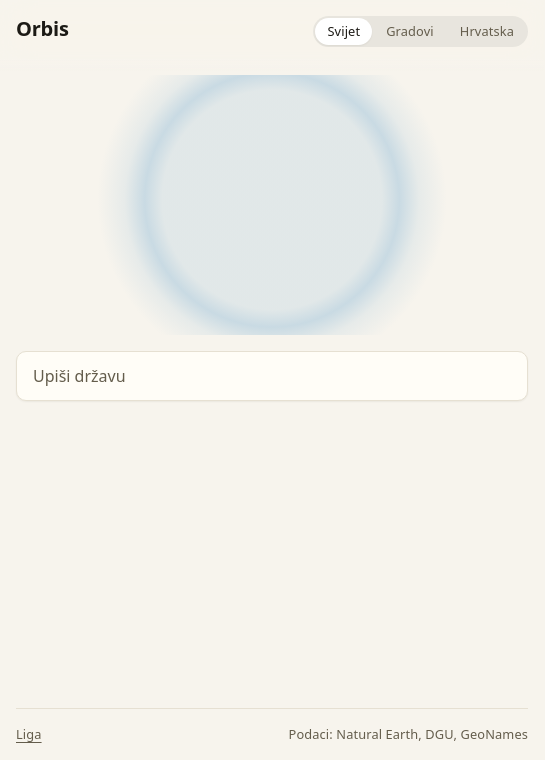
Scenario: App › poruka kaze je li pokusaj blizi od prethodnog
The width and height of the screenshot is (545, 760).
// Meta je Beta. Gama je od nje 400 km, Alfa 100 km, Delta 500 km.
Type "Gama" into the dropdown labelled "Upiši državu" at (272, 376), box [16, 351, 528, 401]
Then press Enter
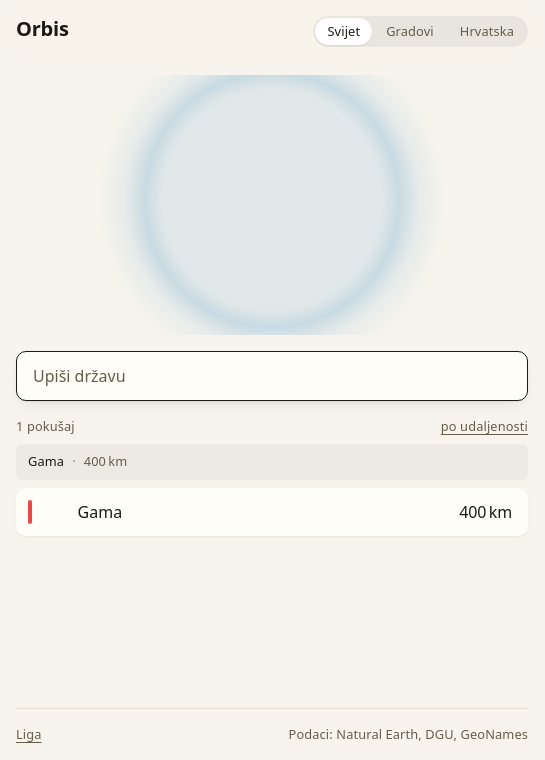
Expected: the message does not show "bliže"
Type "Alfa" into the dropdown labelled "Upiši državu" at (272, 376), box [16, 351, 528, 401]
Then press Enter
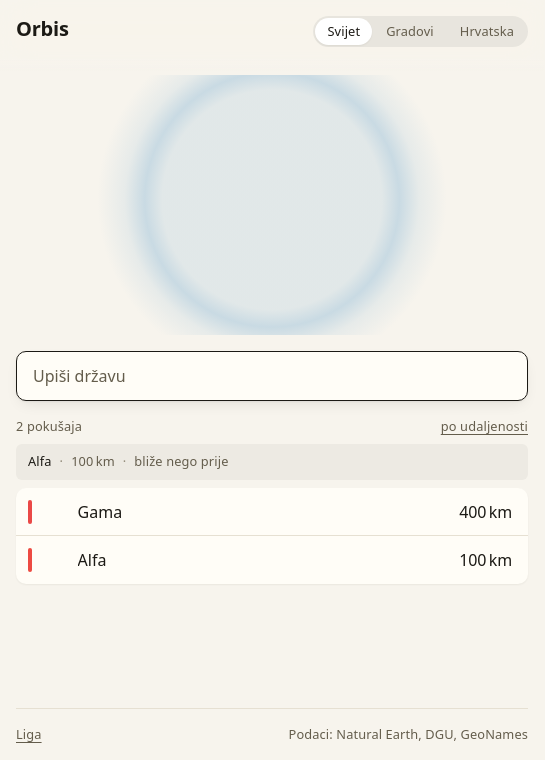
Result: the message shows "bliže nego prije" at [134, 452, 228, 470]
Type "Delta" into the dropdown labelled "Upiši državu" at (272, 376), box [16, 351, 528, 401]
Then press Enter
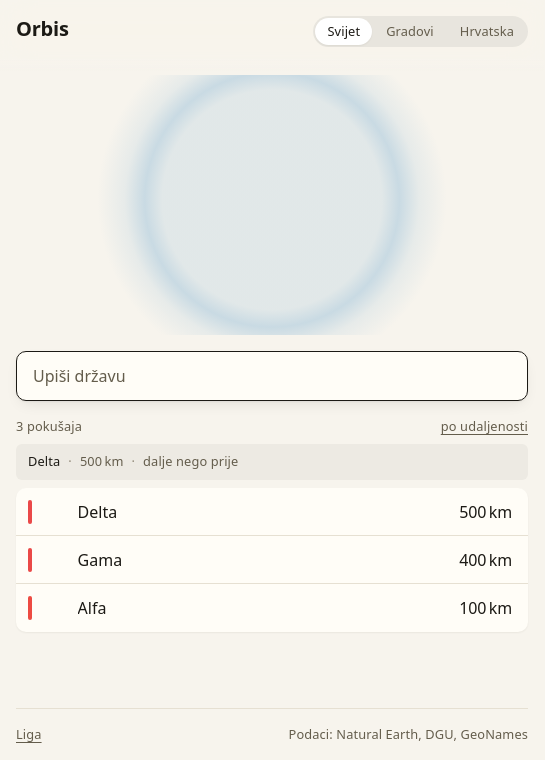
Result: the message shows "dalje nego prije" at [143, 452, 238, 470]
